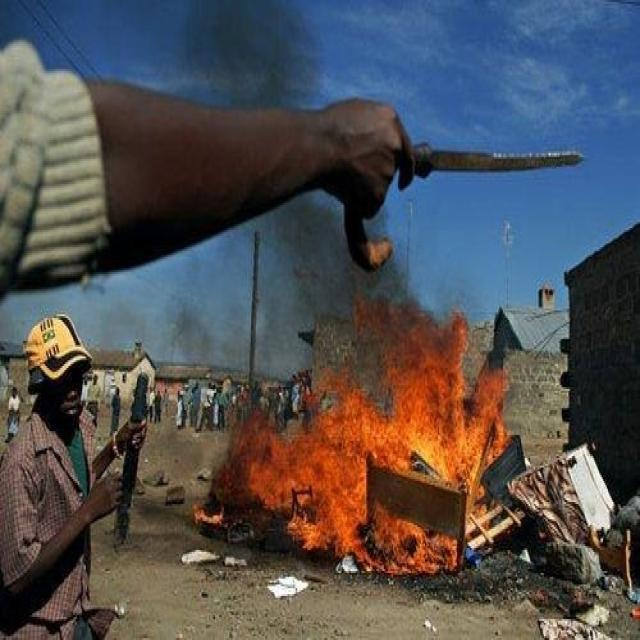Fire: (193, 295, 512, 579)
Smoke: (168, 196, 426, 426), (178, 2, 325, 108)
